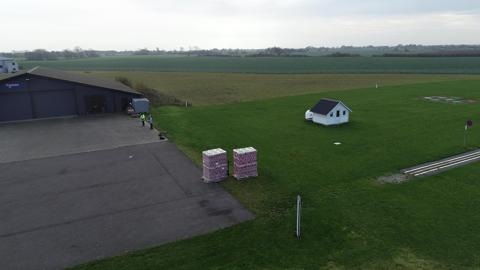RockwoolPallet: (233, 145, 257, 179)
